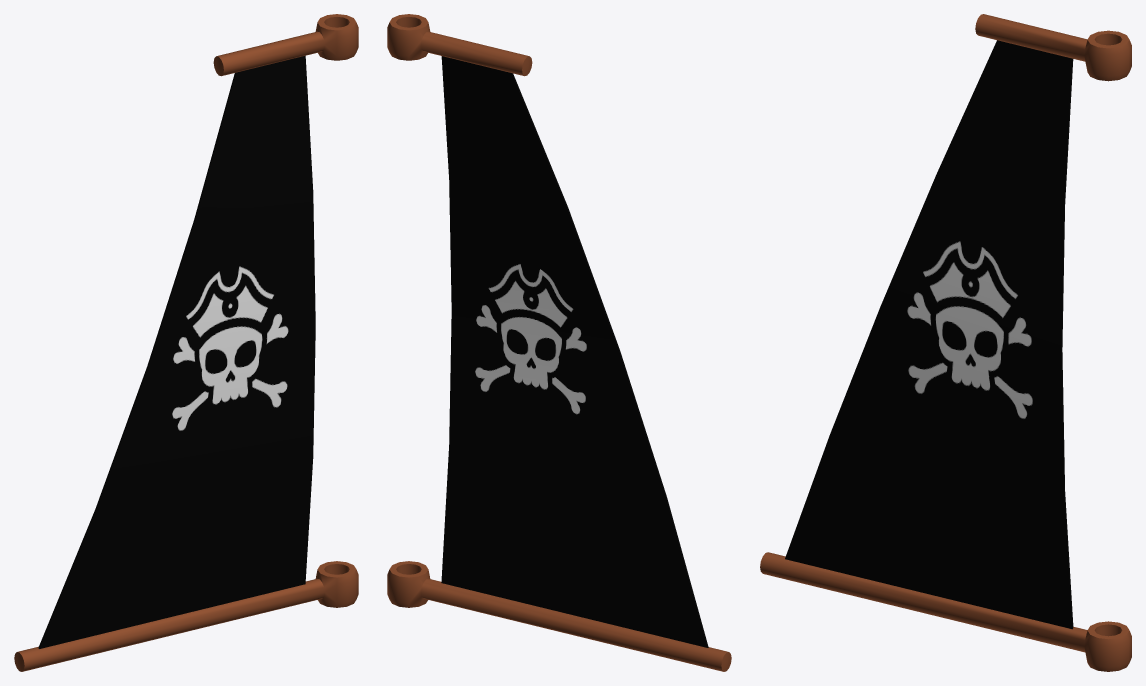
Rendered from bayrak.fbx.
The picture shows the model from 3 angles, left to right: view 1: azimuth 30°, elevation 25°; view 2: azimuth 150°, elevation 25°; view 3: azimuth 330°, elevation 25°; orthographic projection. The views are drawn at different scales.
Visible parts, largest first — view 1: bayrak; view 2: bayrak; view 3: bayrak.
Part boxes in pixels (x1,y1,x2,y2): bayrak: (14,14,358,671); bayrak: (387,14,731,671); bayrak: (760,14,1131,671).
Size of the model in its own units: 192 by 314 by 21.79.
2 materials, 1 textured.
